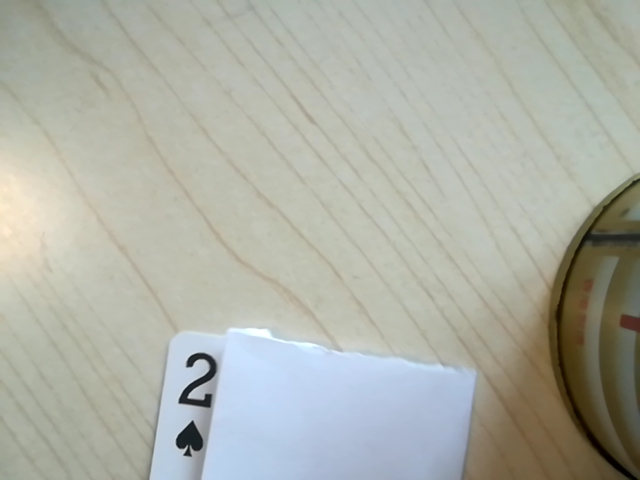ht 2: (163, 344, 229, 474)
